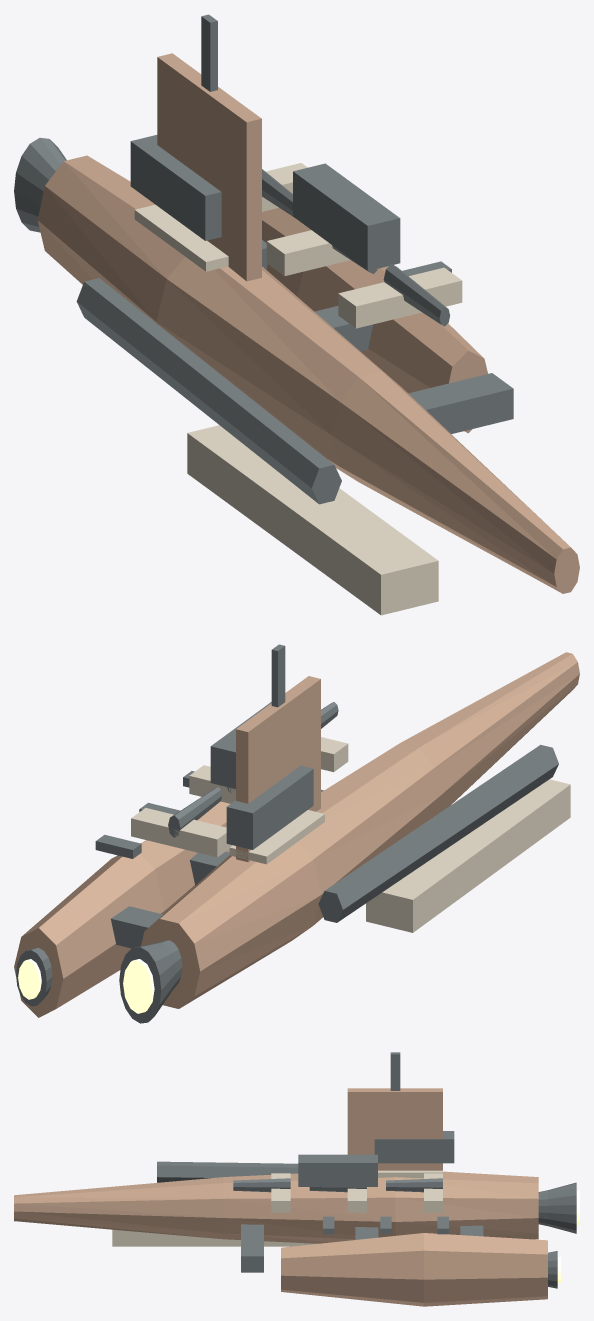
3 views of the same model, one above another, from view 1: azimuth 30°, elevation 25°; view 2: azimuth 150°, elevation 25°; view 3: azimuth 270°, elevation 25° (orthographic). The views are drawn at different scales.
Bounding box in the file's own units: 5.76 × 7.1 × 17.03.
